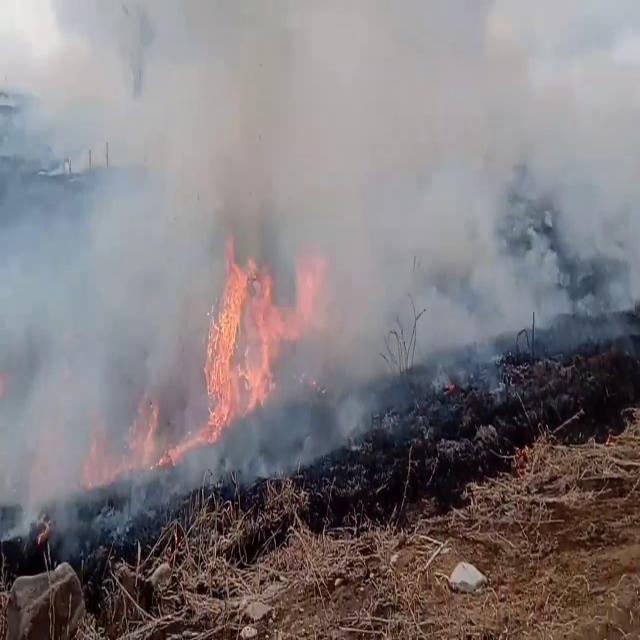Fire: (200, 238, 272, 436)
Smoke: (1, 1, 637, 478)
